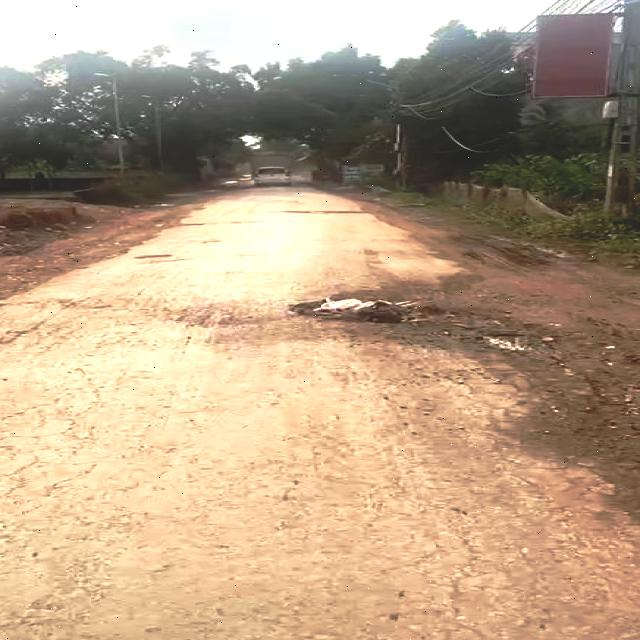pothole: (291, 296, 454, 325)
